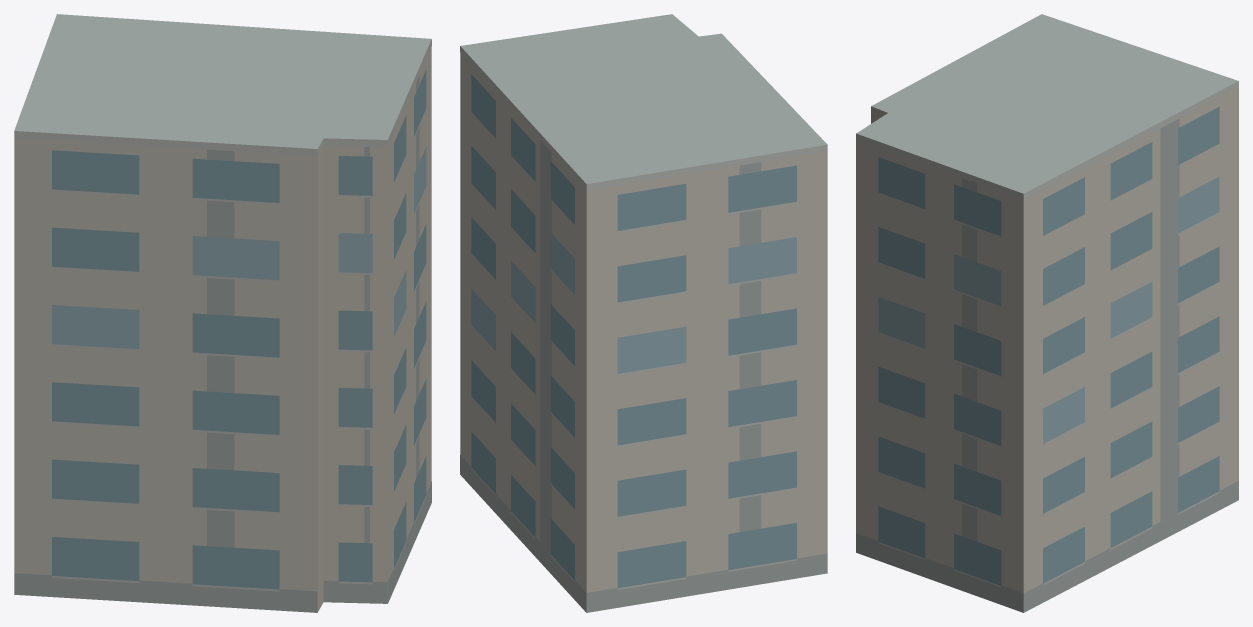
Rendered from survey-upis-32946245.glb.
The picture shows the model from 3 angles, left to right: view 1: azimuth 30°, elevation 25°; view 2: azimuth 150°, elevation 25°; view 3: azimuth 270°, elevation 25°; orthographic projection. The views are drawn at different scales.
Visible parts, largest first — view 1: survey-upis-32946245.tmp; view 2: survey-upis-32946245.tmp; view 3: survey-upis-32946245.tmp.
Part boxes in pixels (x1,y1,x2,y2): survey-upis-32946245.tmp: (14,14,431,612); survey-upis-32946245.tmp: (460,14,827,612); survey-upis-32946245.tmp: (856,14,1238,612).
Bounding box in the file's own units: 14.54 × 15.8 × 13.08.
